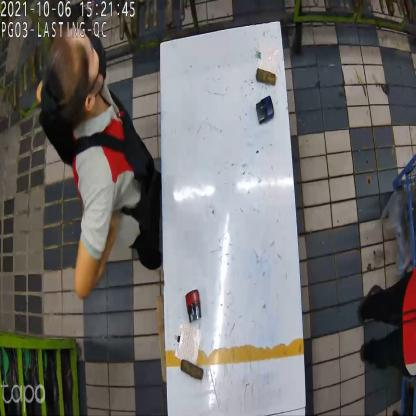stamp: (184, 290, 203, 326), (255, 95, 275, 128)
